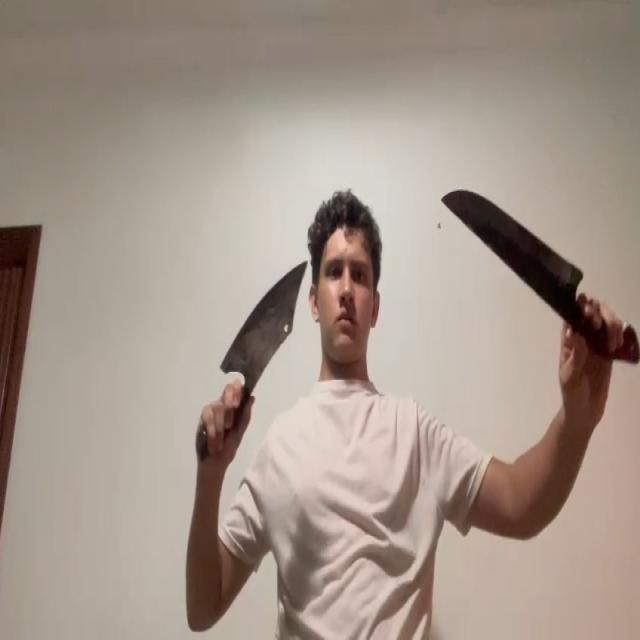knife: (441, 190, 584, 288), (223, 262, 307, 377)
